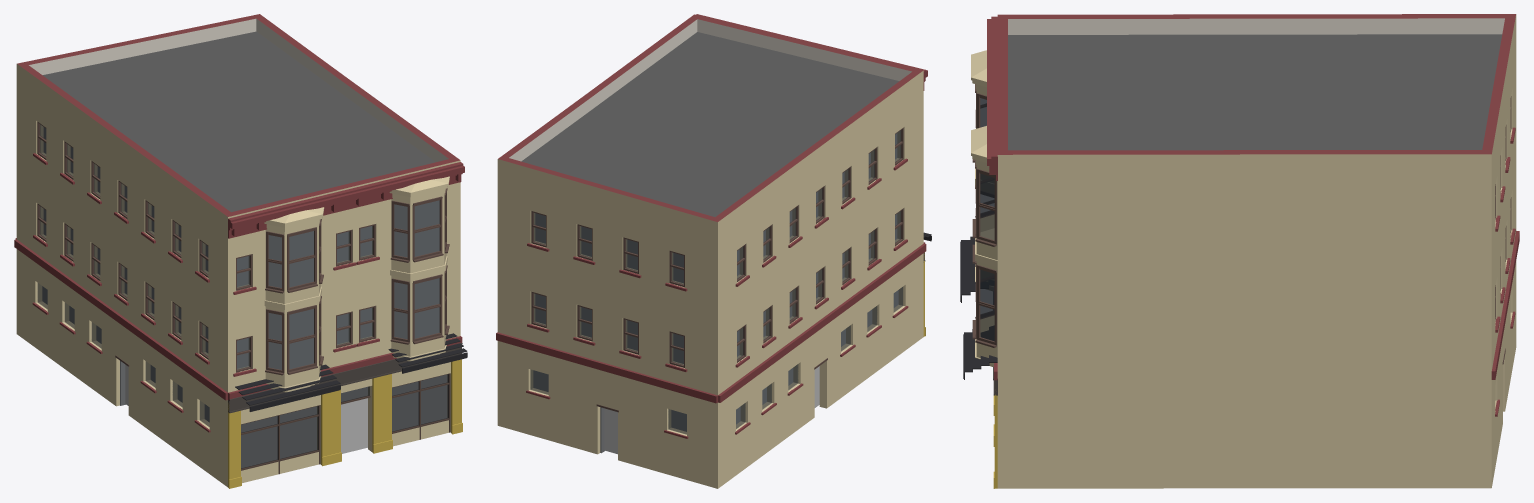
File: exterior.glb
The picture shows the model from 3 angles, left to right: view 1: azimuth 30°, elevation 25°; view 2: azimuth 150°, elevation 25°; view 3: azimuth 270°, elevation 25°; orthographic projection. The views are drawn at different scales.
Parts seen in each view (by area): view 1: shell, roof, shadow-proxy, bay-glazing-hyb, glazing, trim, bay-windows-hyb, storefront-piers, frames, storefront, awning-spans-0, awning-valance-0; view 2: shell, roof, glazing, trim, shadow-proxy, frames; view 3: shell, roof, bay-glazing-hyb, trim, bay-windows-hyb, awning-spans-0.
Part boxes in pixels (<box>): shell: <box>16,14,460,487</box>; roof: <box>42,31,435,212</box>; shadow-proxy: <box>42,127,446,467</box>; bay-glazing-hyb: <box>265,188,449,375</box>; glazing: <box>37,124,448,468</box>; trim: <box>14,153,464,432</box>; bay-windows-hyb: <box>264,176,449,392</box>; storefront-piers: <box>228,359,462,488</box>; frames: <box>37,121,375,372</box>; storefront: <box>115,355,450,482</box>; awning-spans-0: <box>235,333,467,411</box>; awning-valance-0: <box>249,352,467,411</box>; shell: <box>497,14,923,488</box>; roof: <box>521,32,898,216</box>; glazing: <box>530,130,902,434</box>; trim: <box>496,14,927,438</box>; shadow-proxy: <box>533,133,898,454</box>; frames: <box>531,127,903,367</box>; shell: <box>997,14,1516,488</box>; roof: <box>1008,34,1502,150</box>; bay-glazing-hyb: <box>972,84,996,347</box>; trim: <box>987,16,1519,416</box>; bay-windows-hyb: <box>971,50,997,366</box>; awning-spans-0: <box>961,236,997,379</box>.
Bounding box in the file's own units: 11.13 × 12.15 × 18.46.
